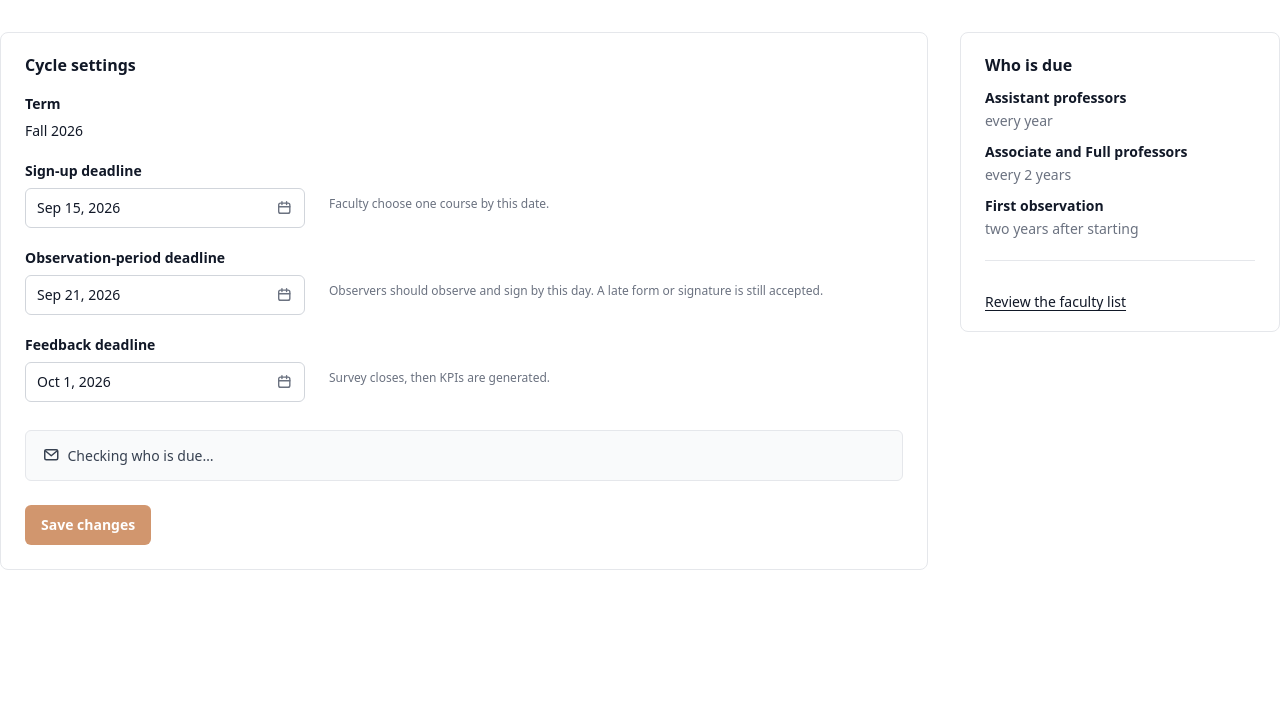
Scenario: Cycle page: an open cycle › will not move the sign-up deadline to today or later once sign-up has closed, since that reopens sign-up
Type "2026-09-18" into the date field labelled "Sign-up deadline" at [165, 208], box top-left (25, 188), bottom-right (305, 228)
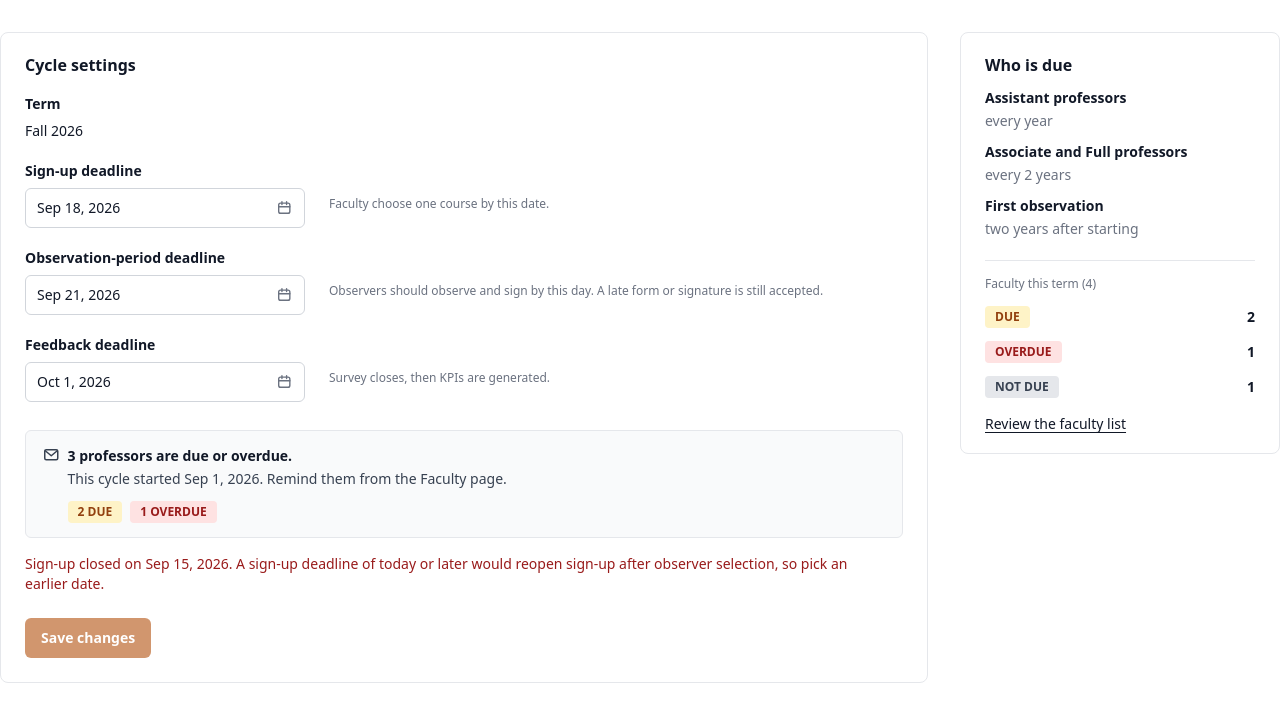
Expected: the button "Save changes" is disabled, top-left (25, 618), bottom-right (151, 658)
Now the message shows "Sign-up closed on Sep 15, 2026. A sign-up deadline of today or later would reopen sign-up after observer selection, so pick an earlier date.", box top-left (25, 554), bottom-right (847, 593)
Type "2026-09-14" into the date field labelled "Sign-up deadline" at [165, 208], box top-left (25, 188), bottom-right (305, 228)
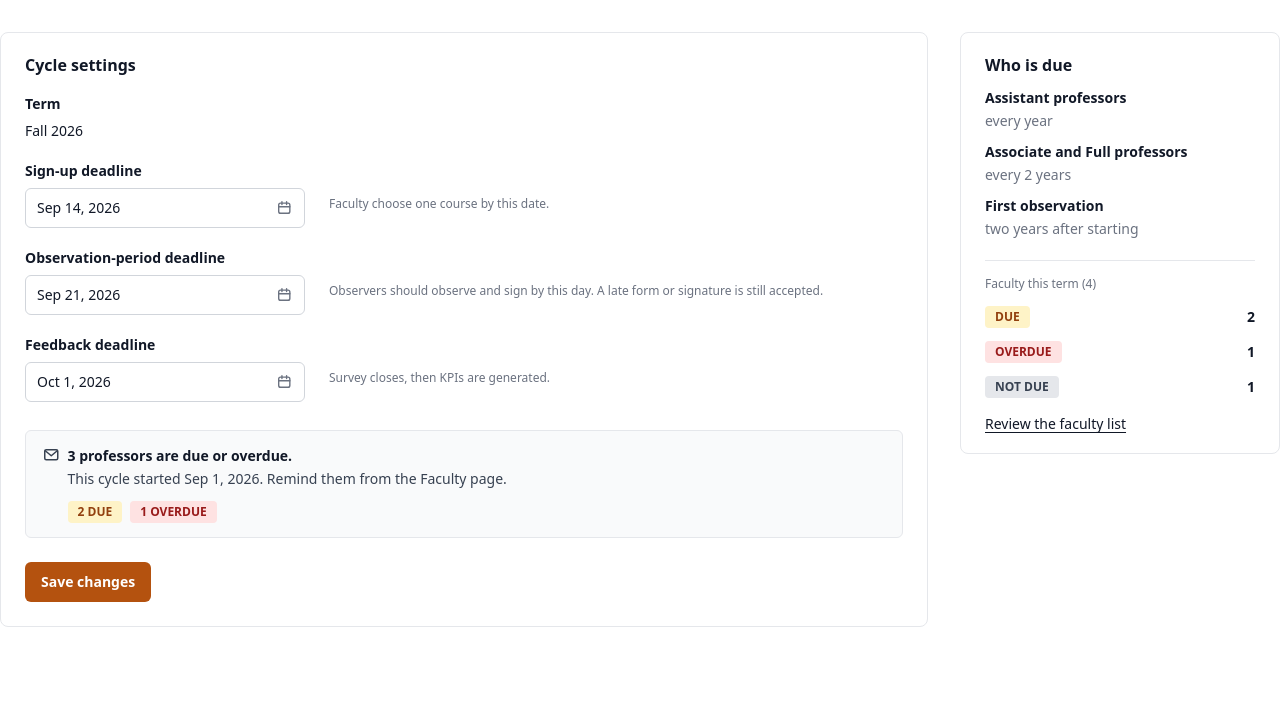
Now the message is gone
Now the button "Save changes" is enabled, box top-left (25, 562), bottom-right (151, 602)
